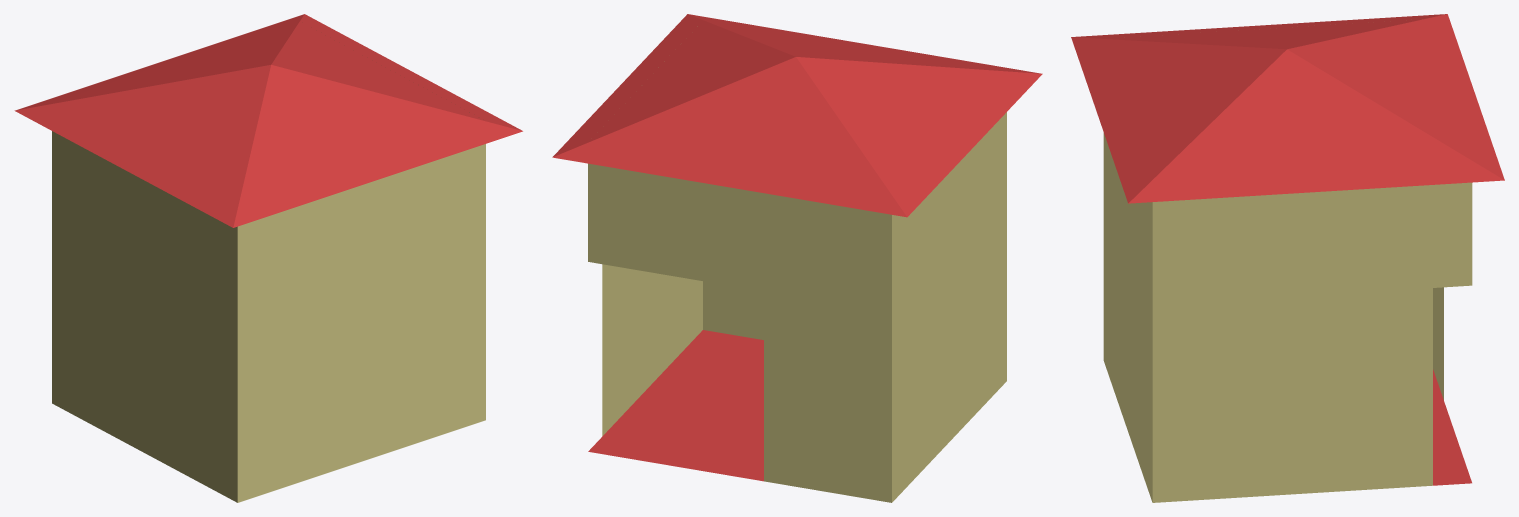
The picture shows the model from 3 angles, left to right: view 1: azimuth 30°, elevation 25°; view 2: azimuth 150°, elevation 25°; view 3: azimuth 270°, elevation 25°; orthographic projection. The views are drawn at different scales.
Size of the model in its own units: 11.7 by 11.31 by 10.75.
